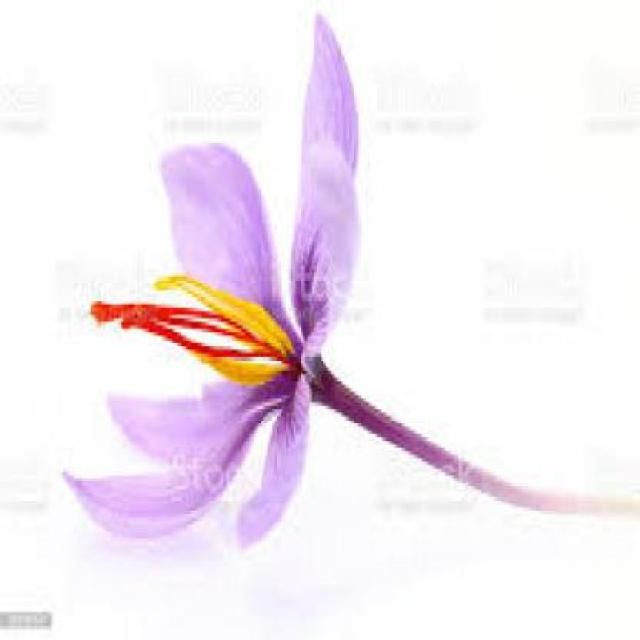saffron open: (65, 15, 570, 544)
